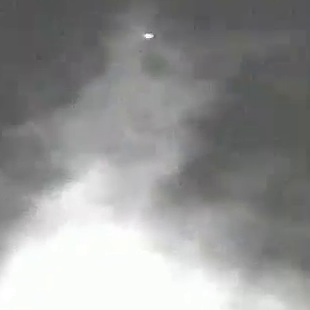Target: (145, 34, 154, 38)
